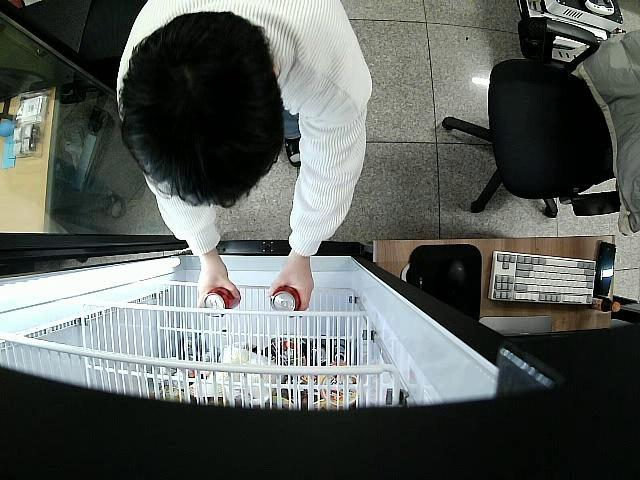11_cocaColaZero: (202, 286, 243, 318), (270, 286, 300, 312)
